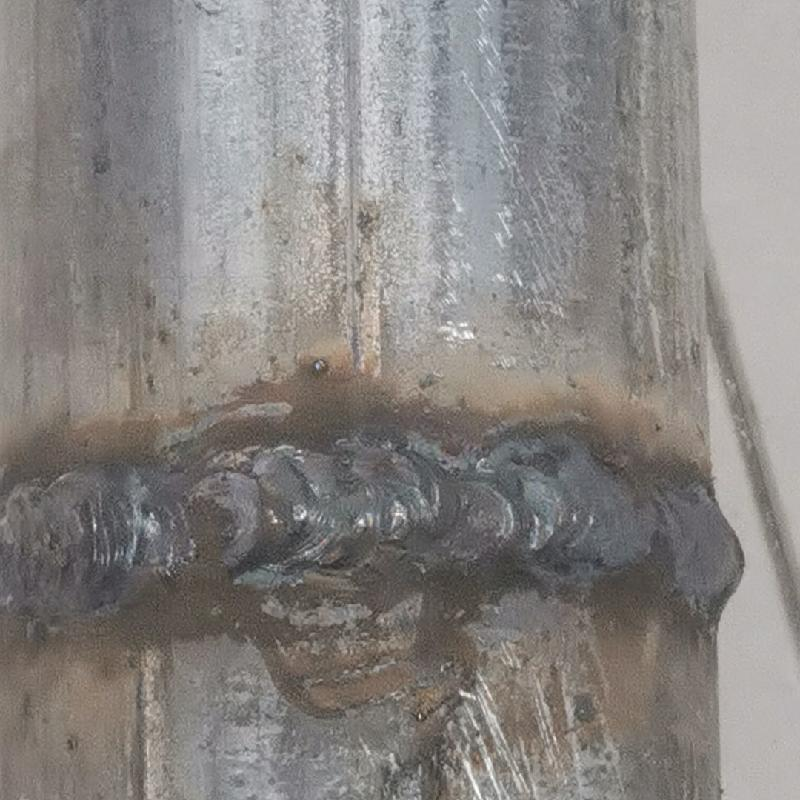good: (3, 435, 748, 638)
